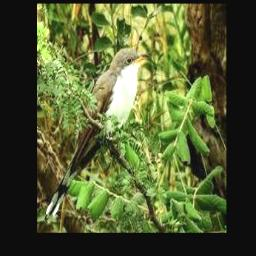Cuckoo: (45, 48, 151, 217)
